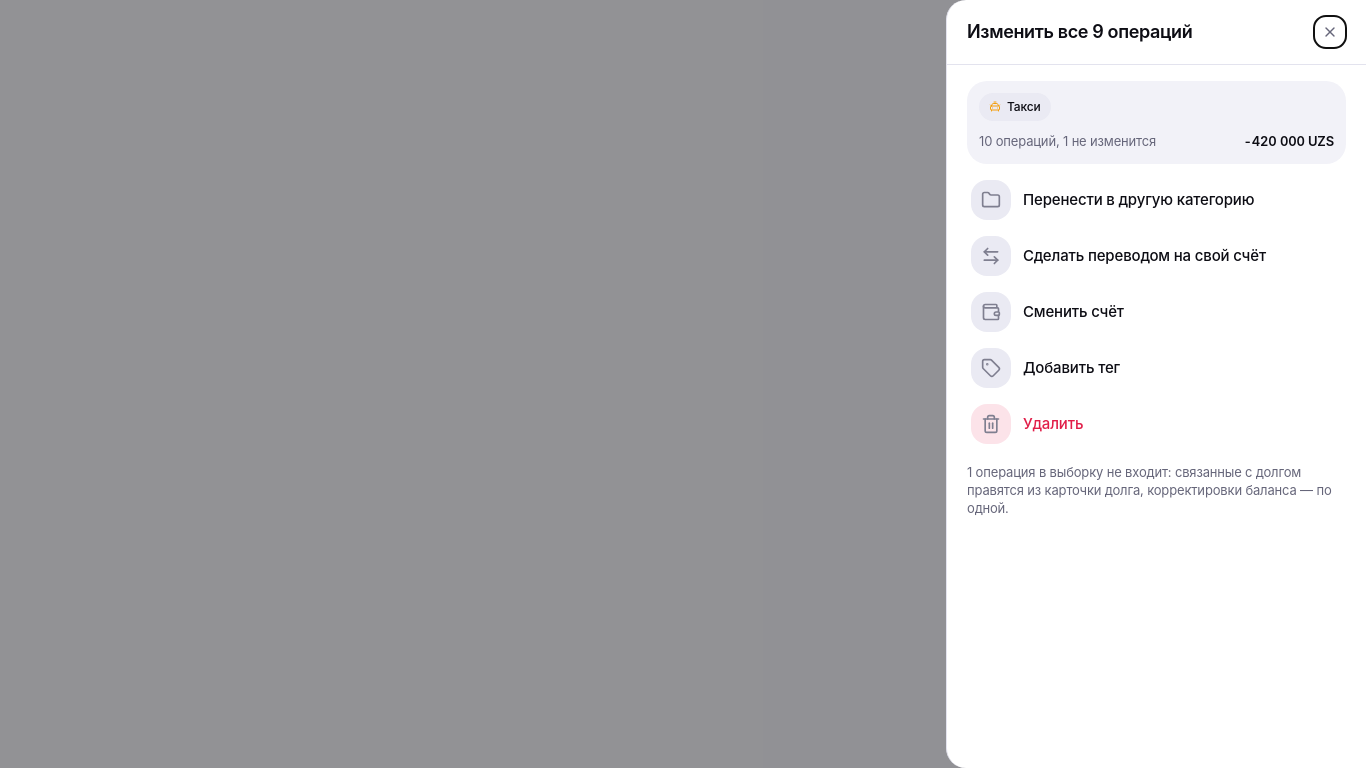
it: BulkEditSheet › категория-цель: текущая недоступна, выбор ведёт на сводку с пропусками
The width and height of the screenshot is (1366, 768).
Click the button "Перенести в другую категорию".
click(1156, 200)  # box [967,172,1346,228]
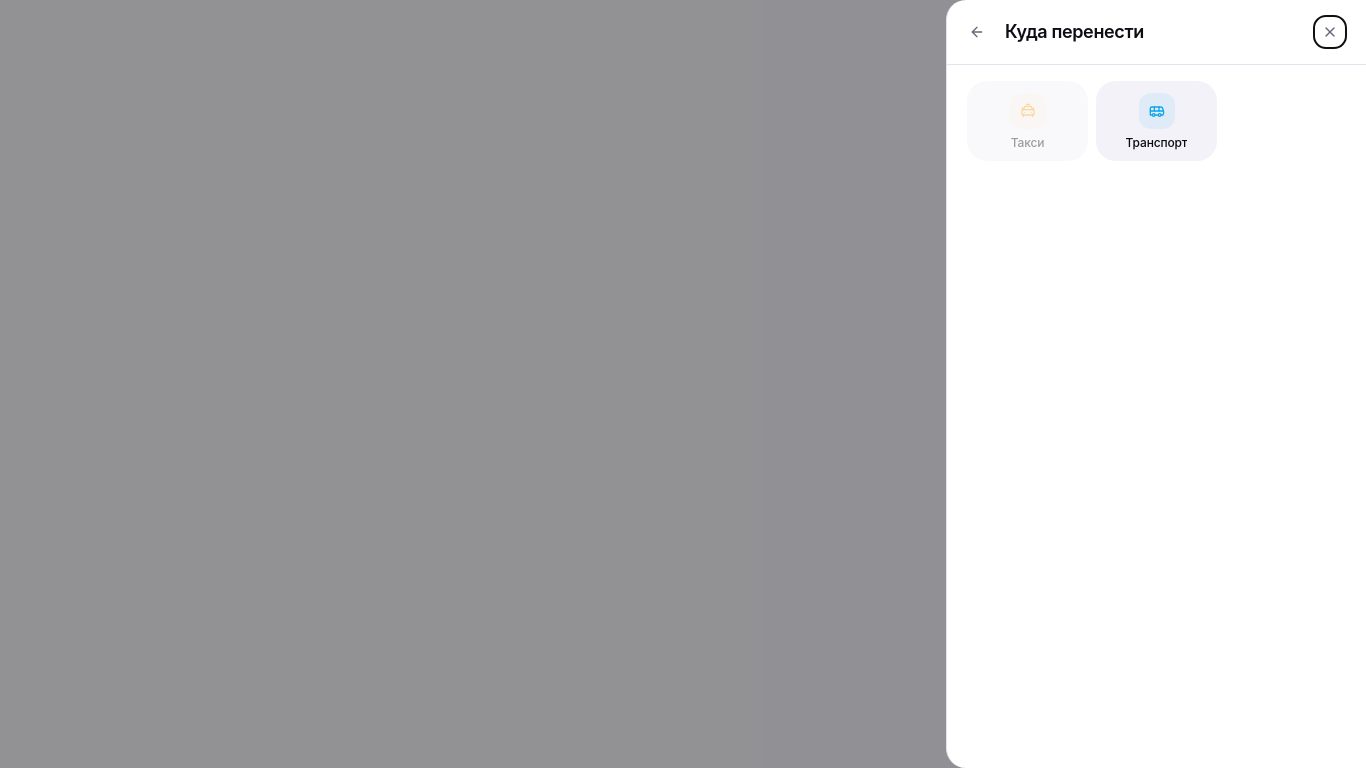
Click the button "Транспорт".
click(1156, 121)  # box [1096,81,1217,161]
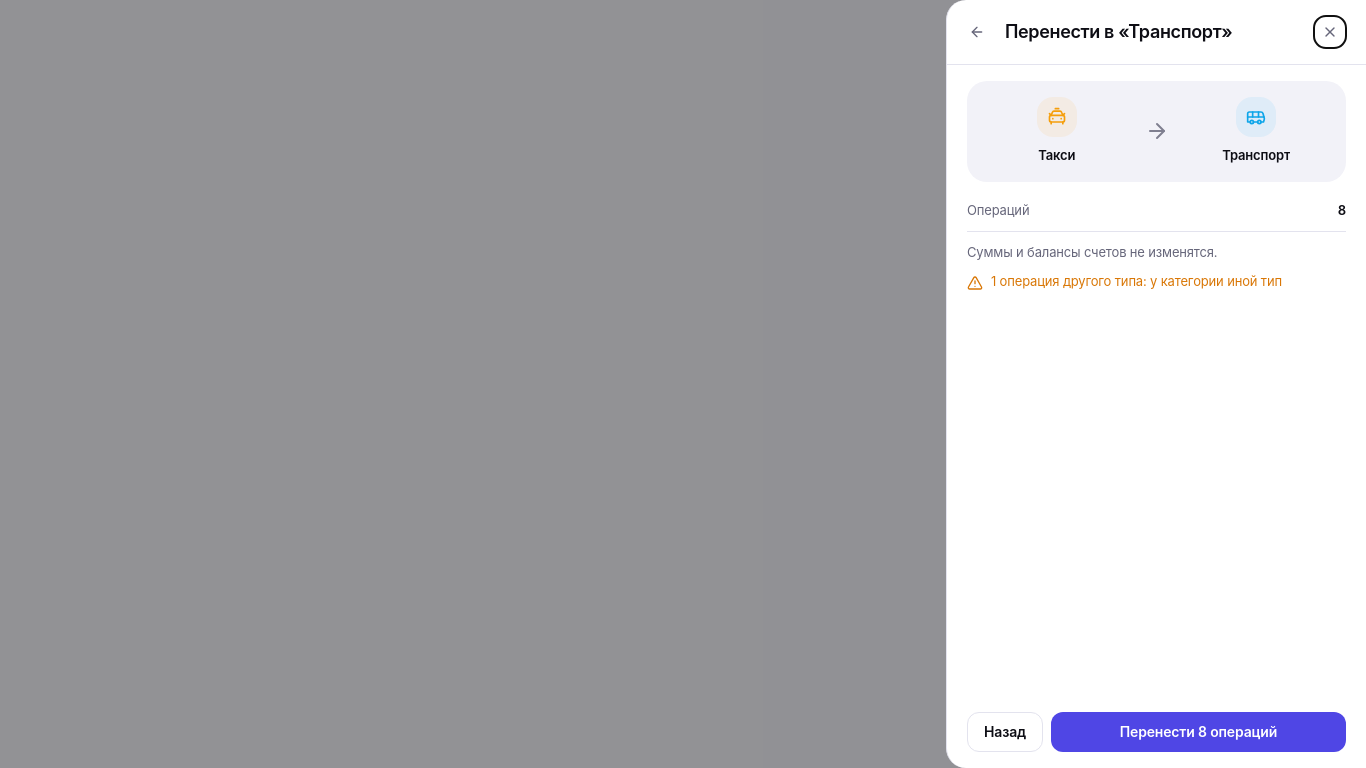
Result: the button "Перенести 8 операций" is shown at [1051,712,1346,752]
